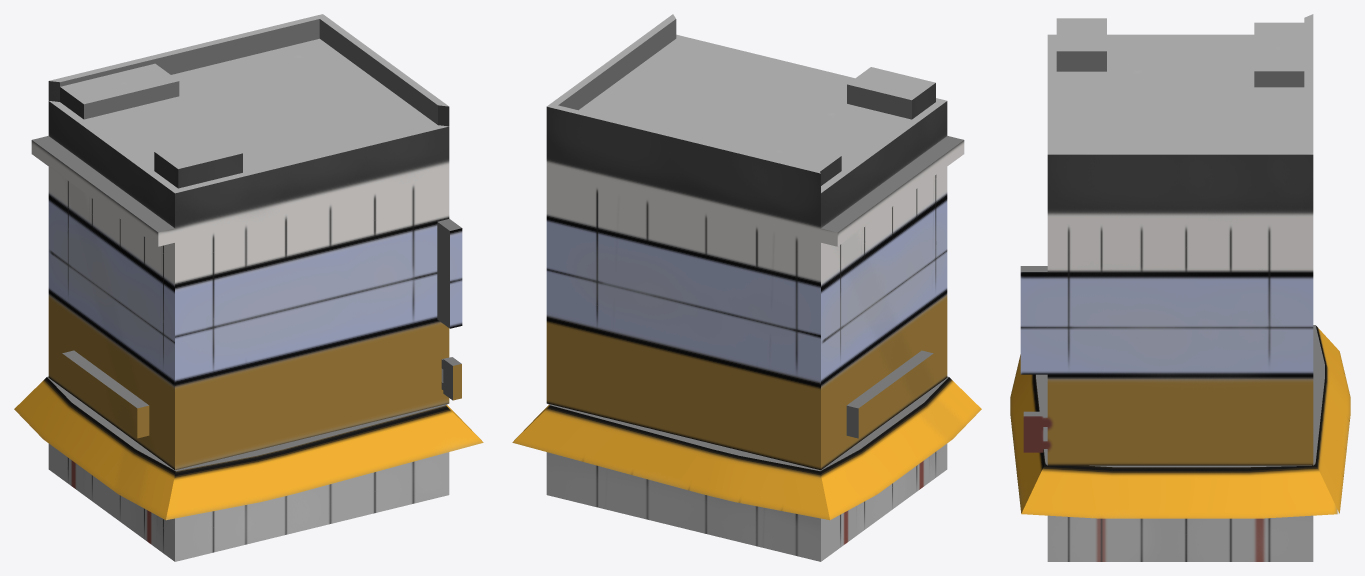
File: Building 1.FBX
3 views of the same model, side by side, from view 1: azimuth 30°, elevation 25°; view 2: azimuth 150°, elevation 25°; view 3: azimuth 270°, elevation 25° (orthographic). The views are drawn at different scales.
Parts seen in each view (by area): view 1: building 1; view 2: building 1; view 3: building 1.
Part boxes in pixels (x1,y1,x2,y2): building 1: (14,14,483,561); building 1: (512,14,981,561); building 1: (1010,14,1350,561).
Bounding box in the file's own units: 17.7 × 14.79 × 19.54.
